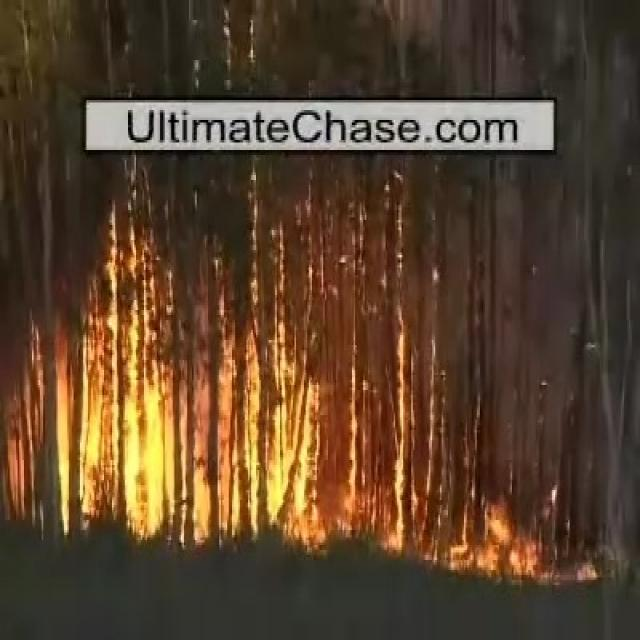fire: (122, 378, 174, 530)
